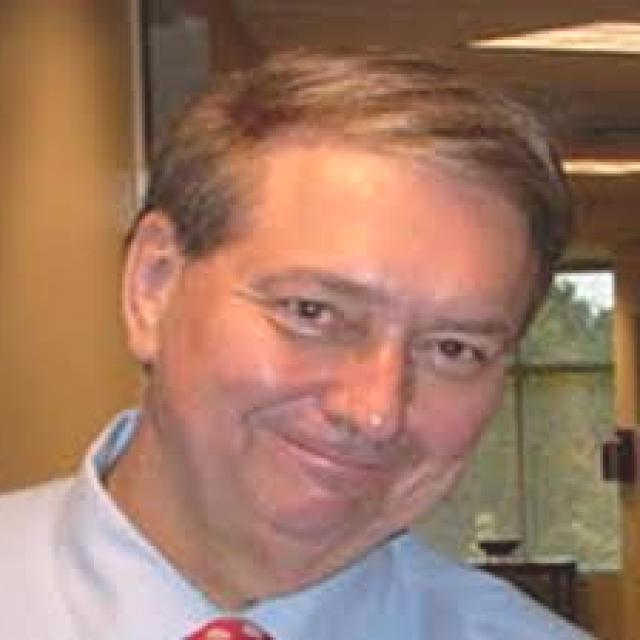normal_face: (124, 103, 562, 565)
